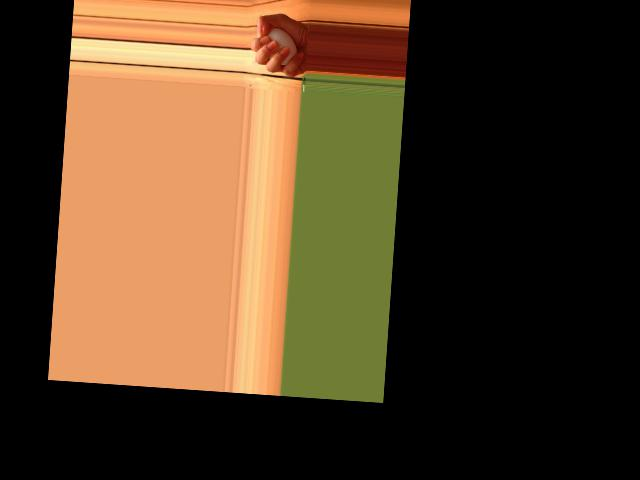egg: (266, 27, 298, 66)
